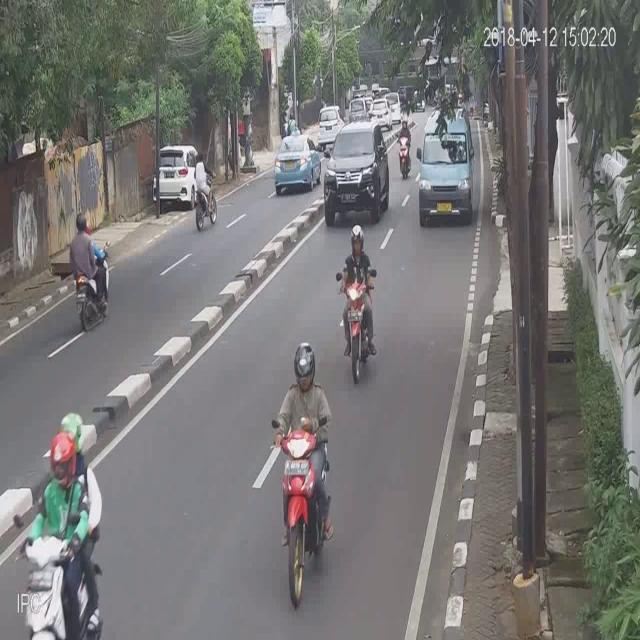bus: (13, 411, 105, 638), (272, 330, 334, 609), (336, 220, 378, 382), (68, 208, 112, 330), (192, 149, 218, 233), (398, 117, 412, 176)
motorcycle: (324, 126, 389, 222), (419, 112, 474, 221), (274, 130, 321, 193), (154, 142, 194, 206)
